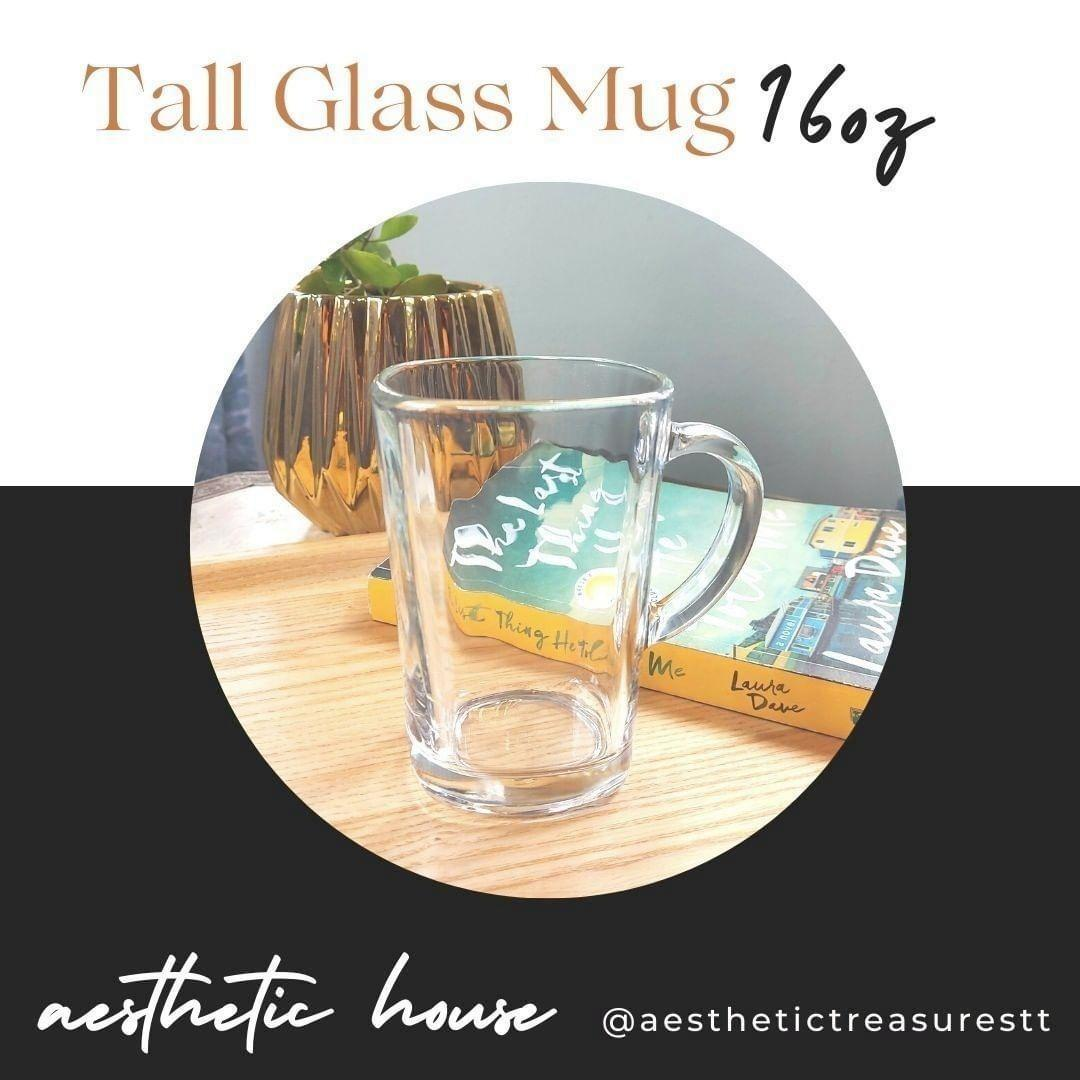glass-mug: (364, 343, 773, 842)
